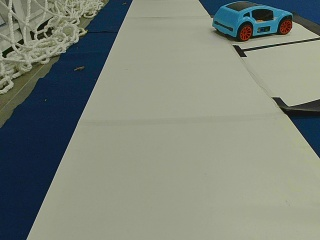car: (212, 3, 292, 40)
